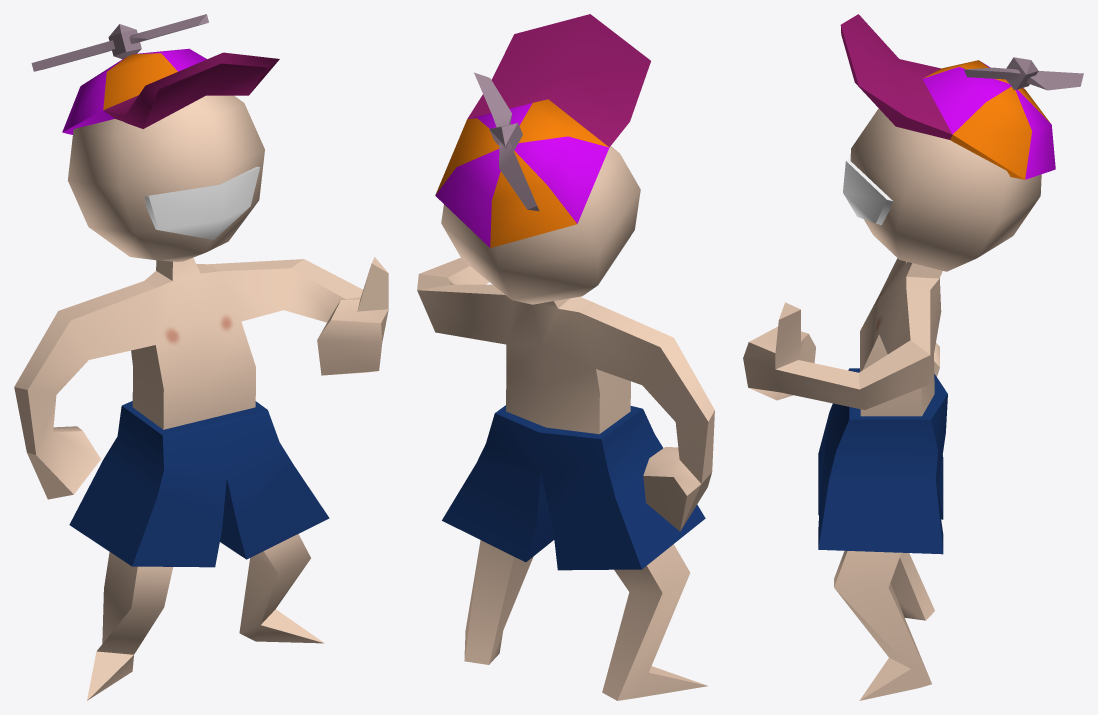
File: timmy.fbx
The picture shows the model from 3 angles, left to right: view 1: azimuth 30°, elevation 25°; view 2: azimuth 150°, elevation 25°; view 3: azimuth 270°, elevation 25°; orthographic projection.
Parts seen in each view (by area): view 1: timmy; view 2: timmy; view 3: timmy.
Part boxes in pixels (left/top/right/bottom): timmy: left=14, top=14, right=388, bottom=700; timmy: left=417, top=14, right=714, bottom=700; timmy: left=743, top=14, right=1083, bottom=700.
Size of the model in its own units: 1.26 by 2.34 by 1.16.
1 material, 1 textured.
